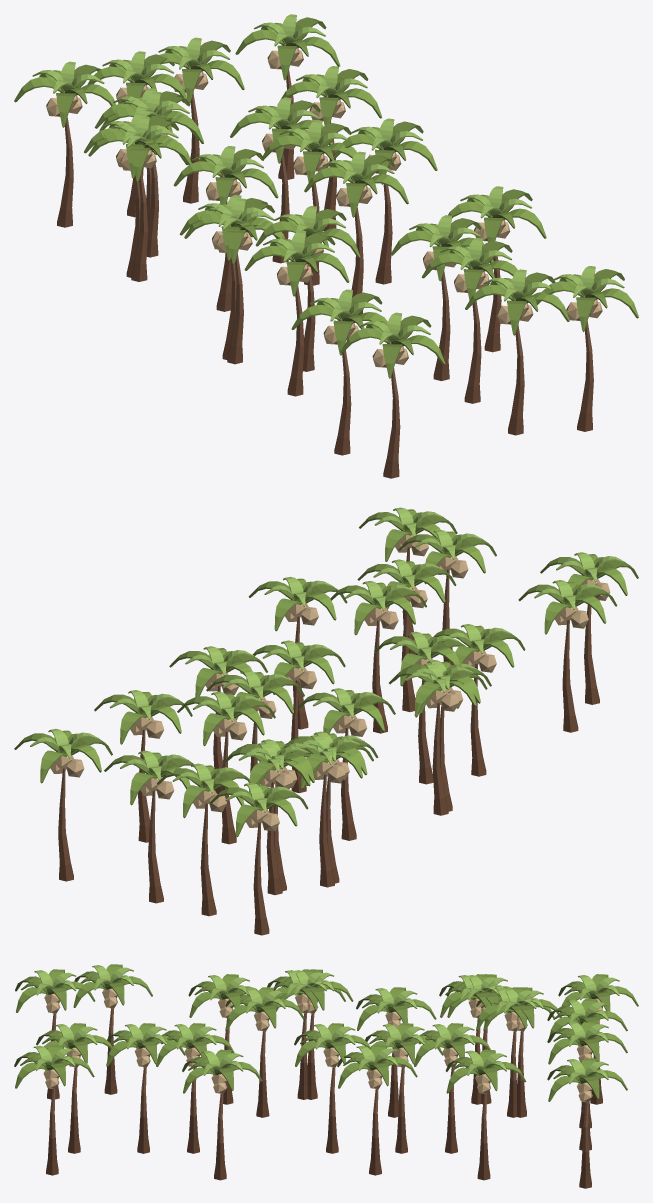
3 renders of one model, top to bottom at view 1: azimuth 30°, elevation 25°; view 2: azimuth 150°, elevation 25°; view 3: azimuth 270°, elevation 25°, orthographic. The views are drawn at different scales.
Visible parts, largest first — view 1: palm_1.141, palm_1.136, palm_1.142, palm_1.069, palm_1.138, palm_1.137, palm_1.152, palm_1.149, palm_1.139, palm_1.072, palm_1.147, palm_1.073 (+13 smaller); view 2: palm_1.152, palm_1.069, palm_1.066, palm_1.067, palm_1.068, palm_1.135, palm_1.072, palm_1.150, palm_1.146, palm_1.144, palm_1.142, palm_1.139 (+13 smaller); view 3: palm_1.066, palm_1.146, palm_1.139, palm_1.138, palm_1.147, palm_1.149, palm_1.137, palm_1.140, palm_1.152, palm_1.150, palm_1.135, palm_1.072 (+13 smaller).
Boxes of the visible parts, x1,y1,x2,y2 form: palm_1.141: (340, 312, 445, 478); palm_1.136: (465, 269, 569, 435); palm_1.142: (244, 230, 349, 396); palm_1.069: (14, 61, 115, 227); palm_1.138: (536, 266, 638, 431); palm_1.137: (421, 238, 517, 403); palm_1.152: (291, 289, 387, 455); palm_1.149: (304, 151, 408, 315); palm_1.139: (448, 186, 546, 352); palm_1.072: (173, 146, 278, 311); palm_1.147: (333, 118, 437, 284); palm_1.073: (88, 116, 191, 281); palm_1.152: (518, 580, 617, 732); palm_1.069: (209, 782, 308, 935); palm_1.066: (14, 728, 112, 881); palm_1.067: (104, 750, 196, 903); palm_1.068: (157, 763, 249, 916); palm_1.135: (330, 581, 426, 733); palm_1.072: (297, 688, 395, 840); palm_1.150: (177, 691, 275, 844); palm_1.146: (94, 690, 192, 842); palm_1.144: (389, 663, 487, 815); palm_1.142: (433, 624, 525, 776); palm_1.139: (248, 576, 347, 729); palm_1.066: (547, 1058, 627, 1188); palm_1.146: (445, 1049, 526, 1180); palm_1.139: (182, 1049, 262, 1180); palm_1.138: (14, 1045, 94, 1175); palm_1.147: (337, 1045, 417, 1175); palm_1.149: (294, 1023, 370, 1153); palm_1.137: (106, 1023, 185, 1153); palm_1.140: (225, 987, 304, 1117); palm_1.152: (73, 964, 152, 1094); palm_1.150: (414, 1023, 490, 1153); palm_1.135: (156, 1023, 234, 1153); palm_1.072: (356, 987, 436, 1117).
Size of the model in its own units: 14.08 by 6.08 by 28.62.
Materials: 25 (25 with a texture image).
